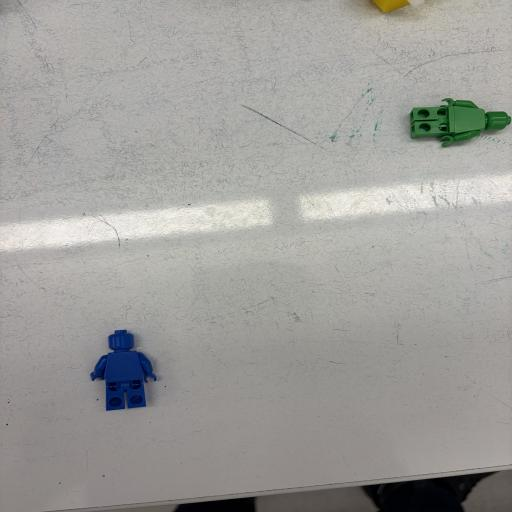Blue-Lego: (90, 329, 157, 411)
Green-Lego: (410, 98, 512, 147)
